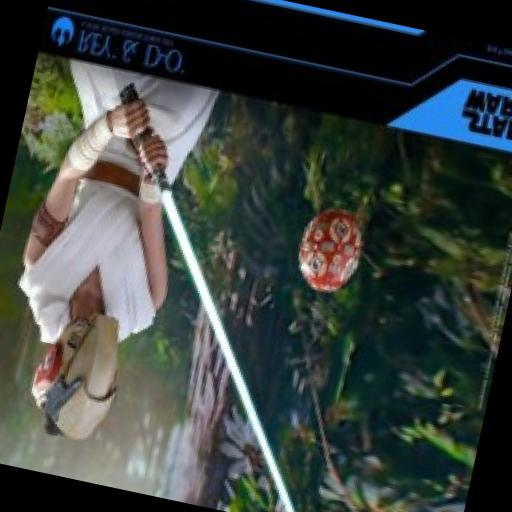human: (0, 58, 213, 451)
lightsaber: (38, 91, 386, 512)
